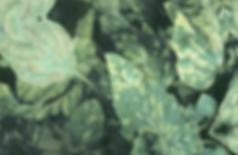Tomato mold leaf: (96, 32, 198, 155), (0, 13, 79, 99), (164, 9, 231, 93)
